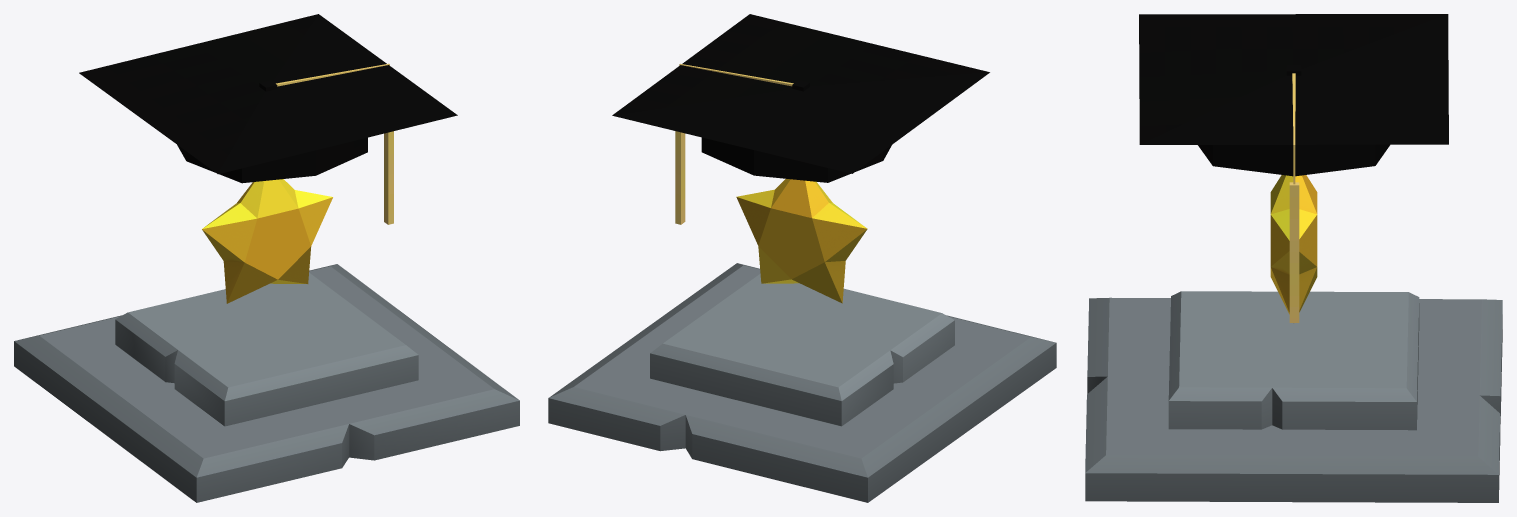
The model's file is background.glb.
3 renders of one model, left to right at view 1: azimuth 30°, elevation 25°; view 2: azimuth 150°, elevation 25°; view 3: azimuth 270°, elevation 25°, orthographic. The views are drawn at different scales.
Visible parts, largest first — view 1: plaque.001, Cube.025_Cube.043, star; view 2: plaque.001, Cube.025_Cube.043, star; view 3: plaque.001, Cube.025_Cube.043, star.
Part boxes in pixels (x1,y1,x2,y2): plaque.001: (14, 264, 519, 502); Cube.025_Cube.043: (79, 14, 457, 224); star: (202, 179, 332, 303); plaque.001: (548, 263, 1056, 502); Cube.025_Cube.043: (612, 14, 989, 224); star: (736, 179, 867, 303); plaque.001: (1085, 291, 1502, 502); Cube.025_Cube.043: (1139, 14, 1448, 322); star: (1270, 175, 1317, 314).
Size of the model in its own units: 1.56 by 1.43 by 1.56.
Materials: 3 (3 with a texture image).
